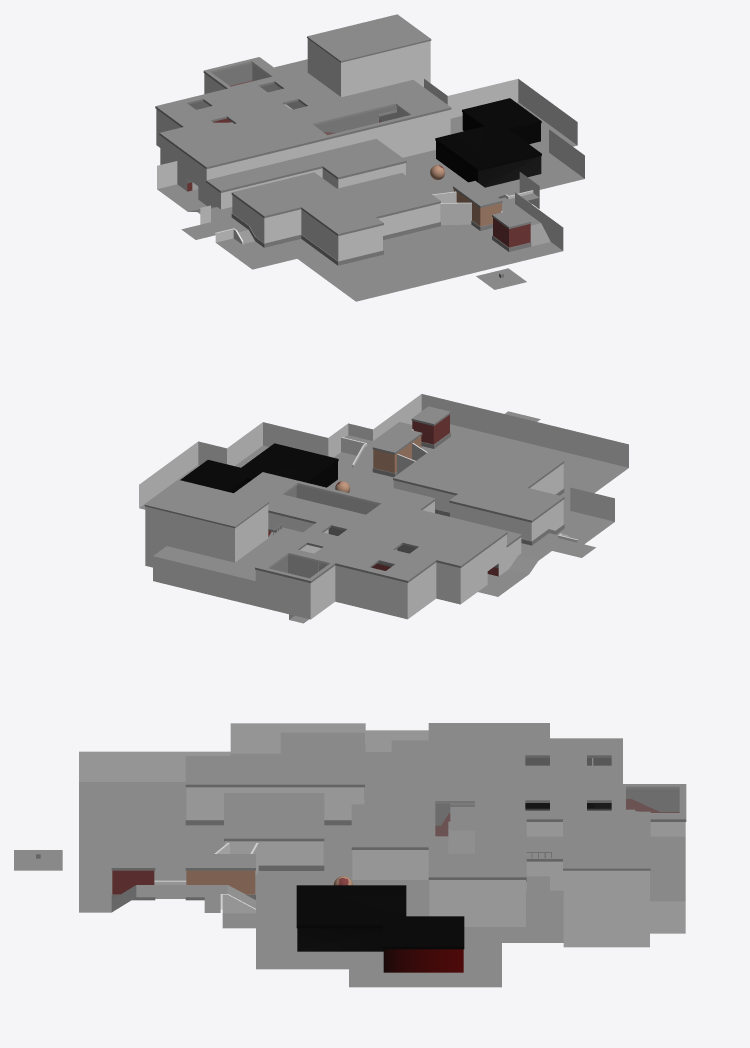
The model's file is zoo.glb.
The picture shows the model from 3 angles, top to bottom: view 1: azimuth 30°, elevation 25°; view 2: azimuth 150°, elevation 25°; view 3: azimuth 270°, elevation 25°; orthographic projection. The views are drawn at different scales.
Visible parts, largest first — view 1: BBuildingExterior-occ-col, Building1-occ-col, AFloor-col, BTBuilding-col, TBuilding-occ-col, TWall-col, ATMain-occ-col, CTFloor-occ-col, TFloor-col, MidFloor-col, BBuildingInterior-occ-col, BBuildingMini-col (+4 smaller); view 2: BBuildingExterior-occ-col, Building1-occ-col, BTBuilding-col, CTWall-col, TWall-col, BBuildingMini-col, AFloor-col, TBuilding-occ-col, ATMain-occ-col, CTFloor-occ-col, BBuildingInterior-occ-col, MidFloor-col (+2 smaller); view 3: BBuildingExterior-occ-col, Building1-occ-col, BTBuilding-col, AFloor-col, TFloor-col, TBuilding-occ-col, CTWall-col, ATMain-occ-col, BBuildingMini-col, MidFloor-col, CTFloor-occ-col, BCTFloor-occ-col (+3 smaller).
Boxes of the visible parts, left/top/right/bottom form: BBuildingExterior-occ-col: left=155, top=57, right=451, bottom=209; Building1-occ-col: left=231, top=172, right=440, bottom=265; AFloor-col: left=297, top=224, right=562, bottom=301; BTBuilding-col: left=307, top=14, right=431, bottom=96; TBuilding-occ-col: left=435, top=98, right=541, bottom=187; TWall-col: left=424, top=78, right=584, bottom=250; ATMain-occ-col: left=453, top=180, right=550, bottom=251; CTFloor-occ-col: left=157, top=184, right=319, bottom=269; TFloor-col: left=378, top=102, right=584, bottom=204; MidFloor-col: left=403, top=152, right=467, bottom=194; BBuildingInterior-occ-col: left=189, top=83, right=396, bottom=134; BBuildingMini-col: left=274, top=59, right=341, bottom=109; BBuildingExterior-occ-col: left=234, top=472, right=521, bottom=619; Building1-occ-col: left=393, top=449, right=564, bottom=545; BTBuilding-col: left=144, top=480, right=269, bottom=567; CTWall-col: left=421, top=394, right=628, bottom=542; TWall-col: left=139, top=394, right=421, bottom=507; BBuildingMini-col: left=153, top=527, right=321, bottom=605; AFloor-col: left=412, top=424, right=628, bottom=510; TBuilding-occ-col: left=180, top=443, right=338, bottom=493; ATMain-occ-col: left=341, top=406, right=450, bottom=477; CTFloor-occ-col: left=478, top=509, right=614, bottom=596; BBuildingInterior-occ-col: left=279, top=515, right=416, bottom=571; MidFloor-col: left=327, top=468, right=393, bottom=493; BBuildingExterior-occ-col: left=351, top=723, right=686, bottom=926; Building1-occ-col: left=185, top=732, right=364, bottom=870; BTBuilding-col: left=563, top=811, right=650, bottom=947; AFloor-col: left=79, top=782, right=255, bottom=912; TFloor-col: left=222, top=890, right=563, bottom=987; TBuilding-occ-col: left=296, top=885, right=464, bottom=972; CTWall-col: left=79, top=723, right=428, bottom=781; ATMain-occ-col: left=111, top=854, right=255, bottom=913; BBuildingMini-col: left=526, top=836, right=685, bottom=933; MidFloor-col: left=256, top=825, right=429, bottom=911; CTFloor-occ-col: left=230, top=745, right=391, bottom=804; BCTFloor-occ-col: left=435, top=807, right=474, bottom=853.
Size of what is drawn, in the model's own units: 137 by 23.55 by 148.
